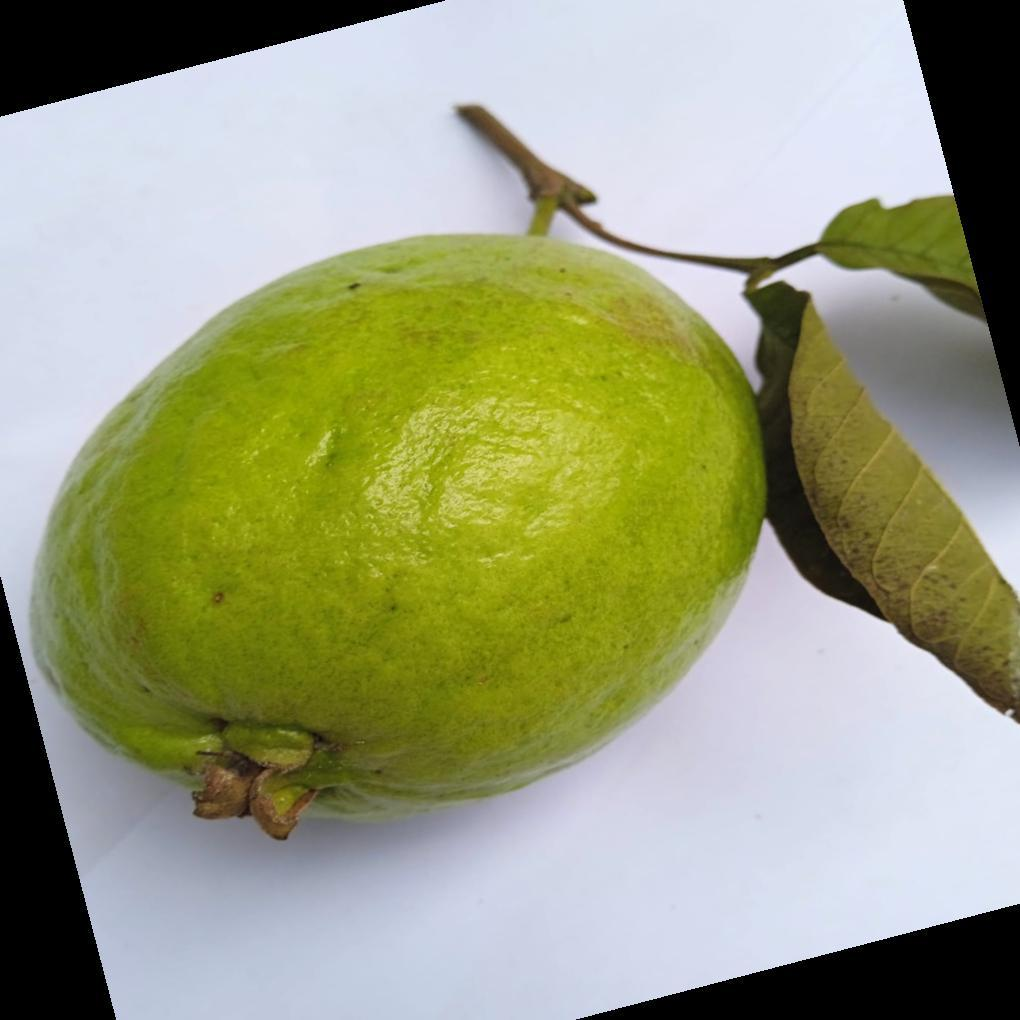FreshGuava: (24, 112, 769, 843)
